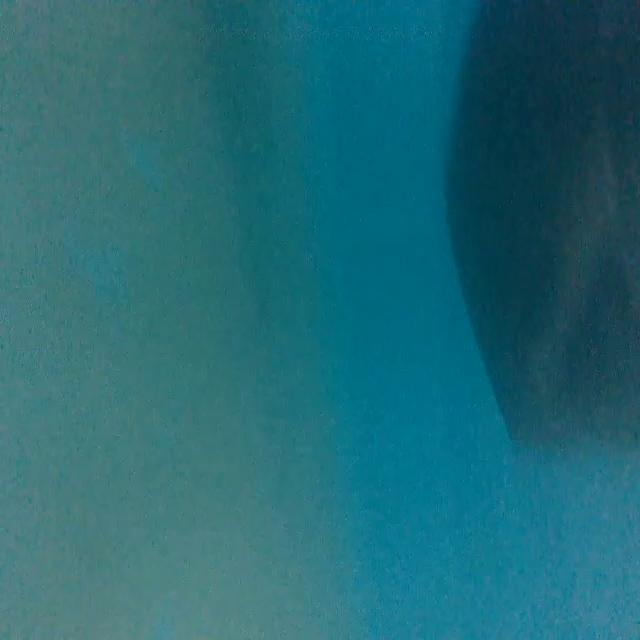plastic bags: (461, 0, 639, 465)
